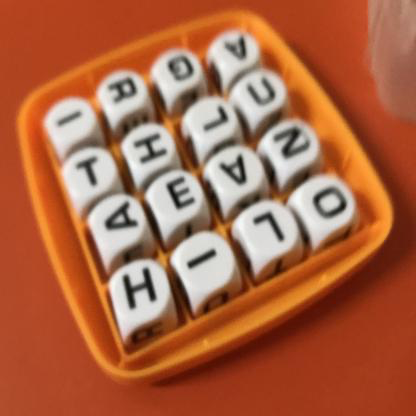a: (213, 146, 258, 199), (99, 197, 143, 239), (219, 29, 252, 64)
e: (162, 171, 201, 219)
g: (162, 50, 201, 91)
h: (114, 262, 165, 317), (127, 124, 174, 171)
i: (180, 233, 224, 287), (49, 97, 92, 144)
l: (250, 197, 292, 254), (192, 101, 234, 140)
n: (270, 117, 318, 167)
o: (310, 178, 352, 230)
r: (101, 69, 143, 109)
t: (70, 156, 112, 195)
u: (242, 75, 284, 111)
